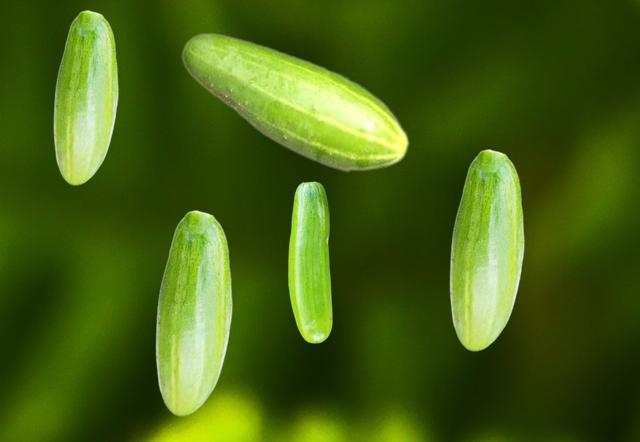cucumber: (181, 32, 409, 172), (155, 210, 231, 415), (449, 149, 523, 350), (53, 10, 117, 184), (288, 181, 331, 342)
